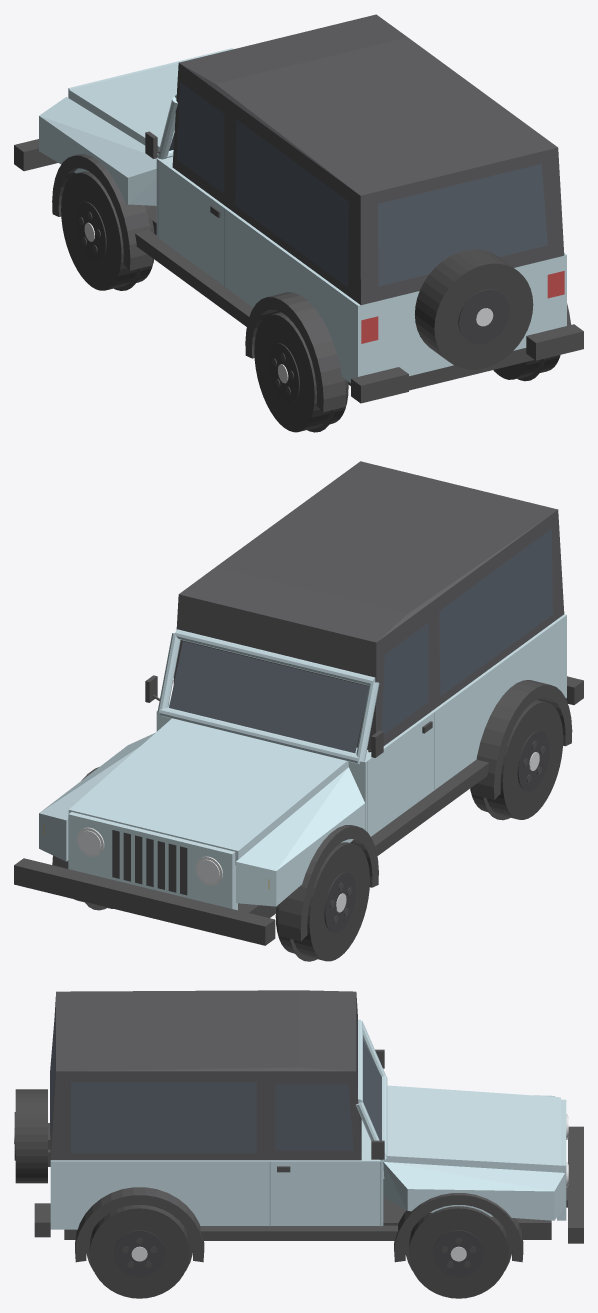
Rendered from g_wrangler.glb.
The picture shows the model from 3 angles, top to bottom: view 1: azimuth 30°, elevation 25°; view 2: azimuth 150°, elevation 25°; view 3: azimuth 270°, elevation 25°; orthographic projection. The views are drawn at different scales.
Visible parts, largest first — view 1: p28, p1, p43, p30, p90, p3, p2, p54, p70, p46, p29, p44 (+10 smaller); view 2: p28, p2, p1, p27, p30, p3, p19, p5, p54, p70, p46, p29 (+9 smaller); view 3: p28, p1, p37, p2, p4, p78, p62, p36, p90, p51, p53, p49 (+10 smaller).
Boxes of the visible parts, x1,y1,x2,y2 form: p28: (172, 14, 564, 305); p1: (156, 156, 566, 383); p43: (378, 164, 547, 286); p30: (235, 119, 348, 287); p90: (415, 249, 533, 369); p3: (39, 97, 157, 205); p2: (68, 63, 178, 153); p54: (61, 171, 154, 290); p70: (254, 312, 348, 432); p46: (245, 292, 346, 412); p29: (177, 82, 224, 193); p44: (52, 154, 152, 270); p28: (173, 461, 564, 749); p2: (68, 718, 348, 865); p1: (156, 614, 566, 836); p27: (169, 641, 368, 753); p30: (439, 529, 552, 696); p3: (236, 767, 365, 906); p19: (14, 858, 275, 945); p5: (68, 812, 237, 910); p54: (275, 842, 369, 961); p70: (470, 700, 563, 819); p46: (471, 680, 572, 799); p29: (381, 622, 428, 734); p28: (50, 990, 361, 1160); p1: (50, 1119, 383, 1229); p37: (71, 1082, 256, 1153); p2: (383, 1085, 560, 1178); p4: (383, 1162, 564, 1220); p78: (89, 1205, 189, 1298); p62: (409, 1206, 508, 1298); p36: (275, 1084, 353, 1150); p90: (15, 1089, 47, 1183); p51: (75, 1187, 204, 1262); p53: (200, 1225, 397, 1240); p49: (394, 1193, 523, 1262).
Size of the model in its own units: 1.79 by 1.83 by 4.23.
